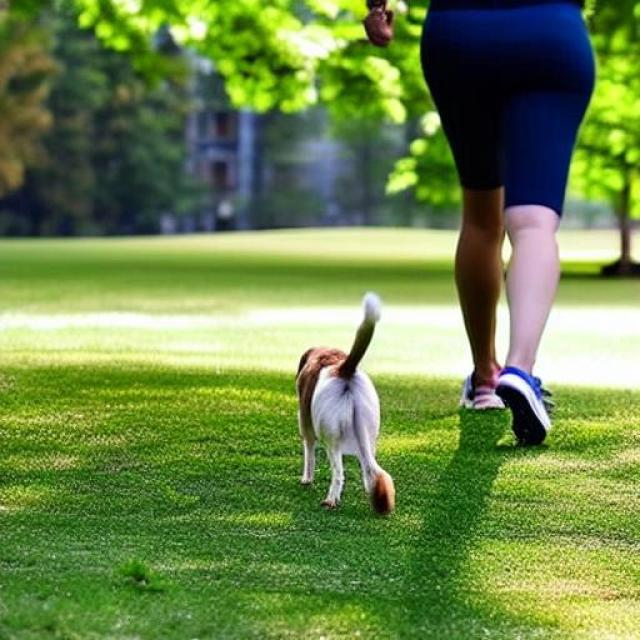Unleashed_Dog: (294, 89, 549, 518)
